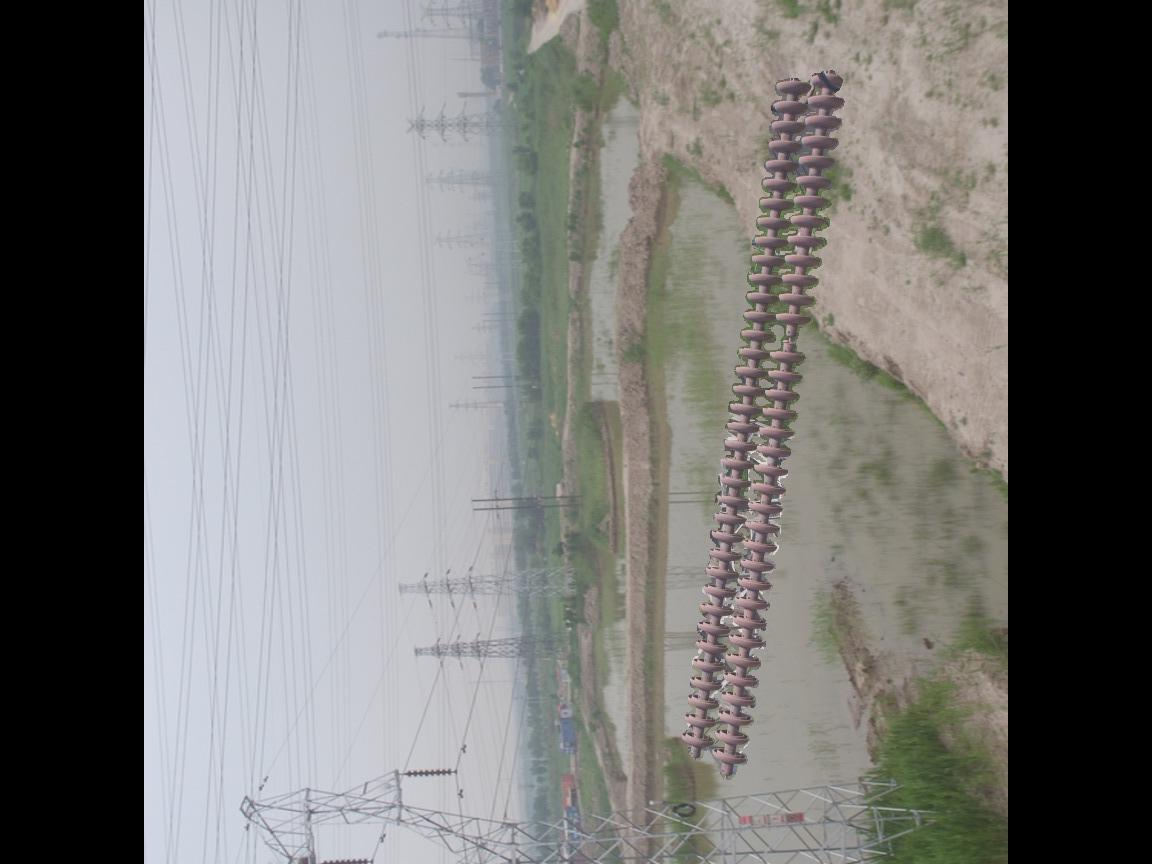insulator: (676, 65, 851, 778), (397, 761, 457, 784)
insulator_stringdrop: (765, 309, 814, 369)
